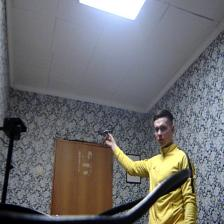drone: (95, 123, 117, 137)
